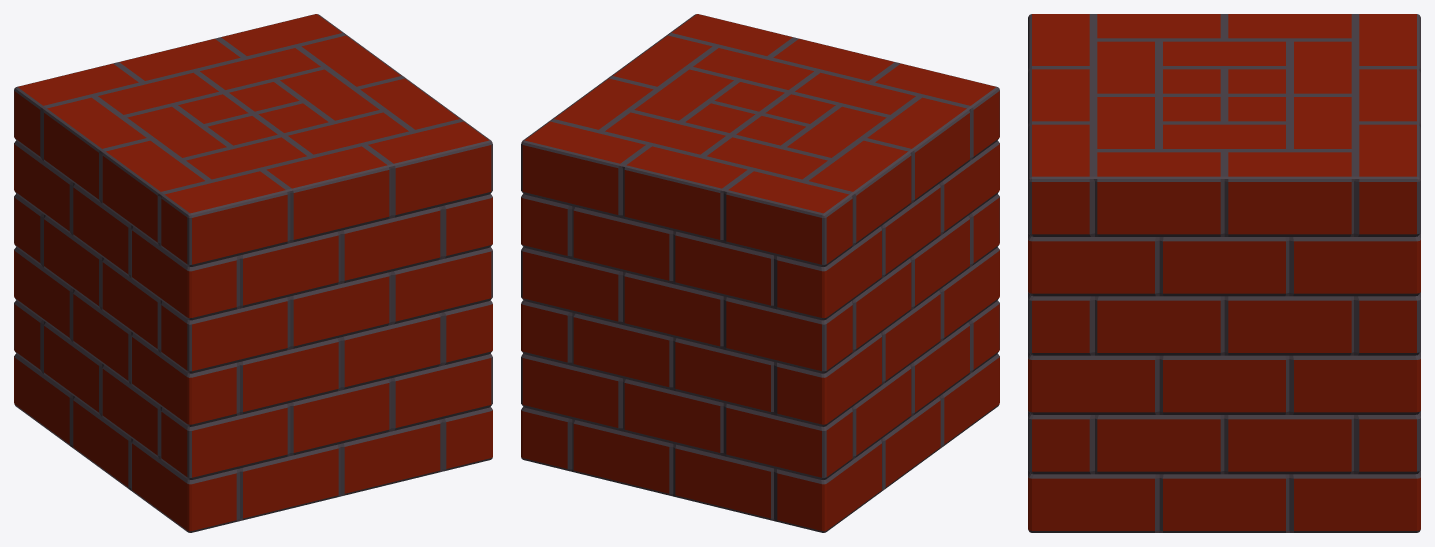
Rendered from brick.fbx.
3 renders of one model, left to right at view 1: azimuth 30°, elevation 25°; view 2: azimuth 150°, elevation 25°; view 3: azimuth 270°, elevation 25°, orthographic. The views are drawn at different scales.
Parts seen in each view (by area): view 1: Cube.001; view 2: Cube.001; view 3: Cube.001.
Part boxes in pixels (x1=…): Cube.001: x1=14, y1=14, x2=492, y2=532; Cube.001: x1=521, y1=14, x2=999, y2=532; Cube.001: x1=1028, y1=14, x2=1420, y2=532.
Bounding box in the file's own units: 200 × 200 × 200.
